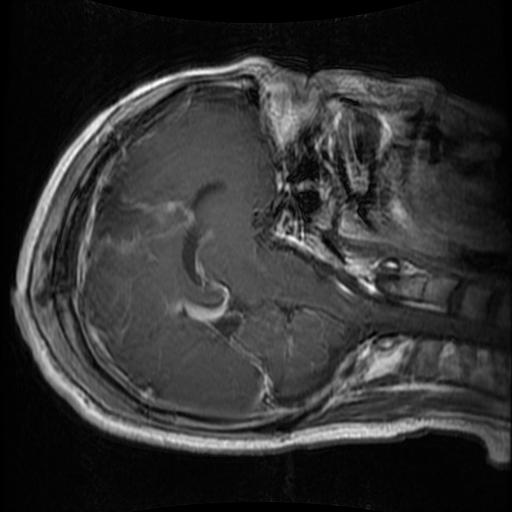glioma: (89, 165, 193, 261)
